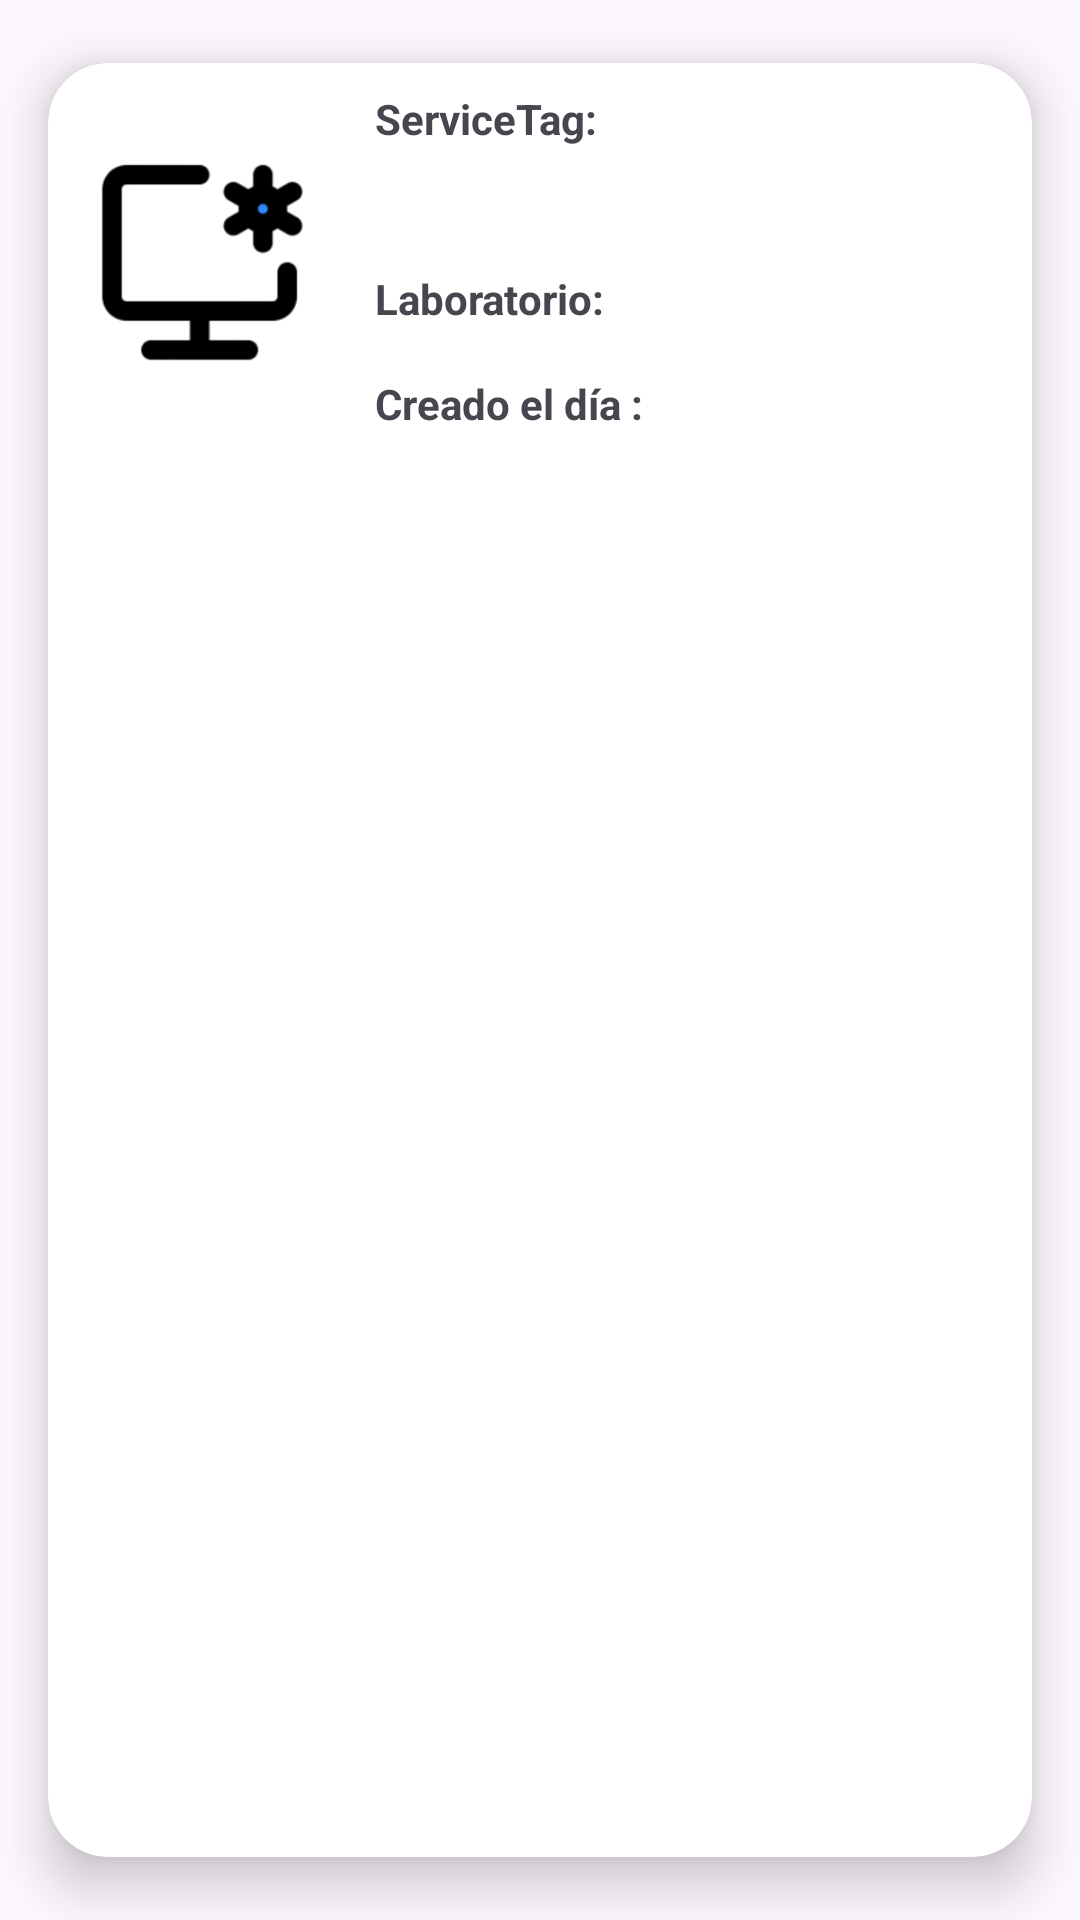

Screen size 1080px×1920px. Icon name, then its center in pixels as (x=x, y=y):
diagnostico: (x=202, y=262)
